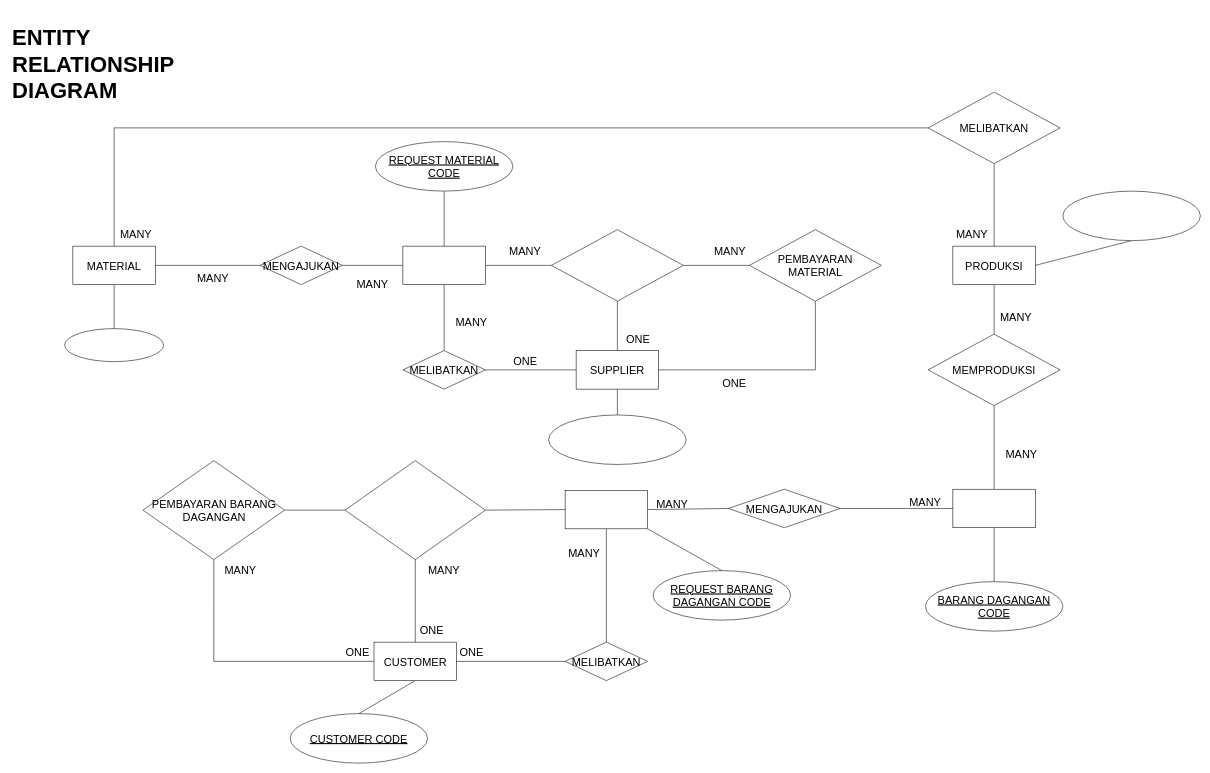
This 1210x773 diagram has some shape labels left out. The shapes that lost their labels are listed below. From the top down, each one's centre as x and y in pixels, then its label:
pixel 1131 216: PRODUKSI CODE
pixel 443 265: REQUEST MATERIAL
pixel 617 265: MENGEMBALIKAN MATERIAL
pixel 114 345: MATERIAL CODE
pixel 617 439: SUPPLIER CODE
pixel 415 510: MENGEMBALIKAN BARANG DAGANGAN
pixel 606 509: REQUEST BARANG DAGANGAN
pixel 993 508: BARANG DAGANGAN
